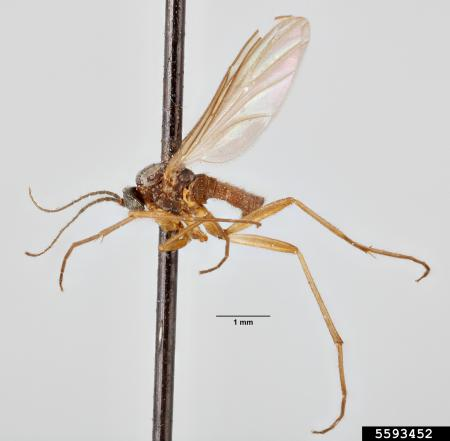Fruit fly: (36, 28, 436, 338)
